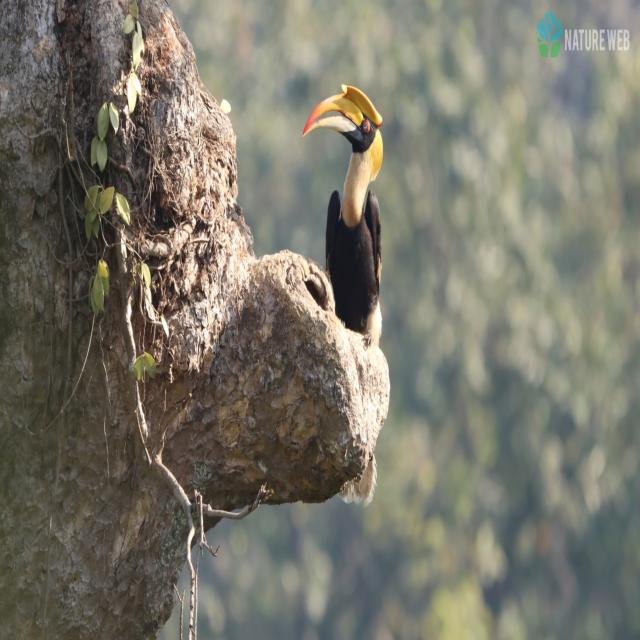Hornbill: (298, 75, 388, 342)
